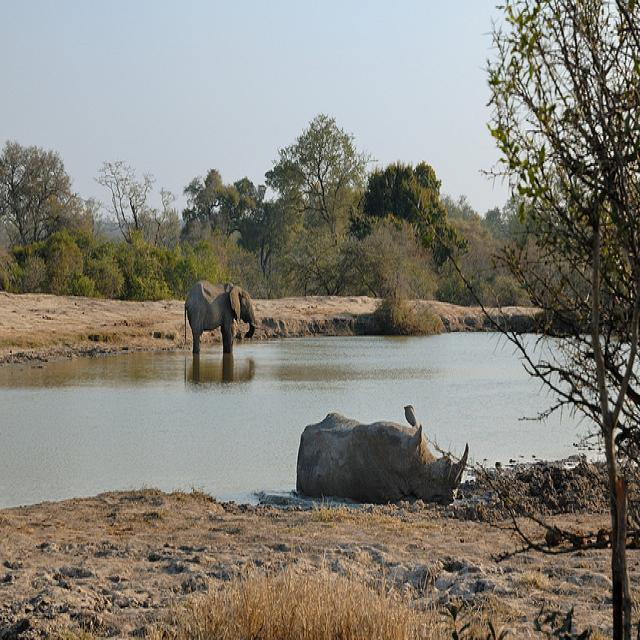Elephant: (183, 278, 256, 353)
